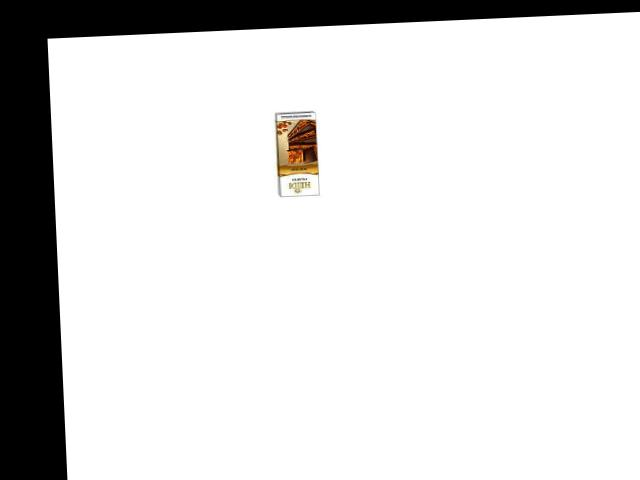chocolate: (258, 107, 327, 202)
